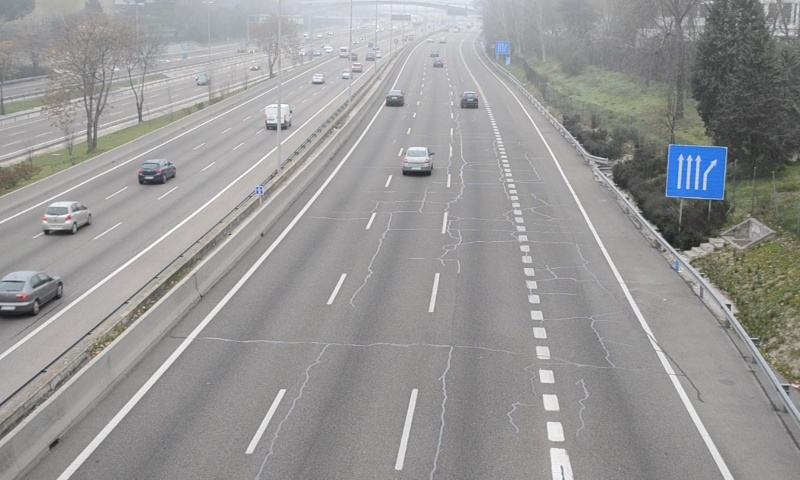car: (404, 146, 432, 172), (460, 91, 479, 109), (385, 90, 404, 107)
